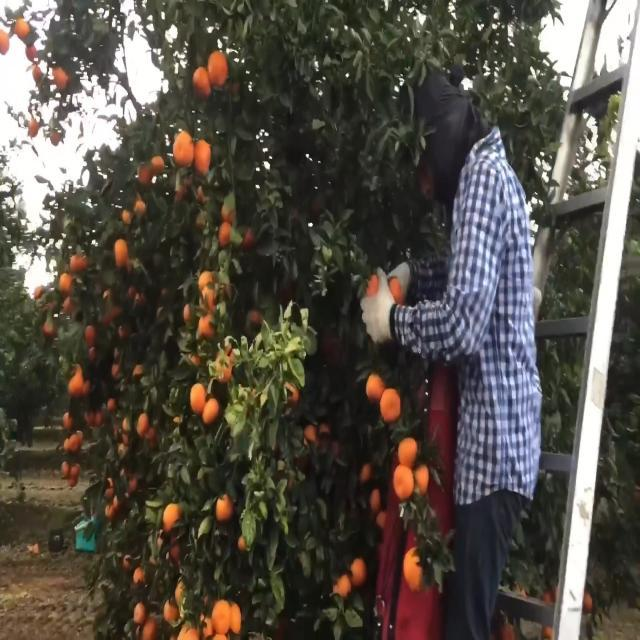Jeruk Sudah Matang: (203, 46, 230, 88), (171, 128, 195, 174), (392, 464, 416, 502), (362, 367, 386, 404), (398, 434, 421, 472), (212, 488, 236, 524), (164, 500, 184, 538), (348, 555, 369, 590), (132, 159, 154, 188), (112, 234, 130, 269), (189, 377, 204, 413), (216, 222, 237, 245), (135, 410, 151, 438)
